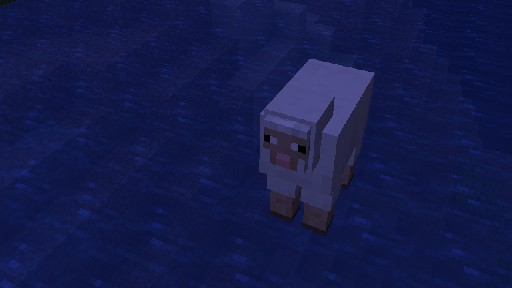sheep: (258, 57, 375, 236)
